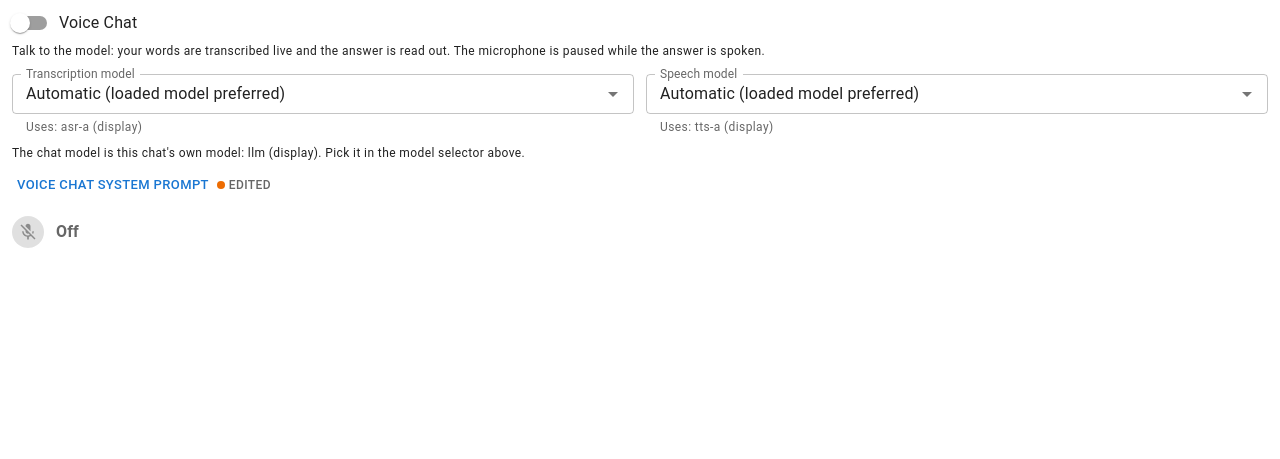
Test case: VoiceChatControl system prompt field › collapsed section › expands on a click, and collapses again on the next
The width and height of the screenshot is (1280, 459).
Click the button "Voice Chat system prompt Edited" at (144, 185), box [12, 170, 276, 200]
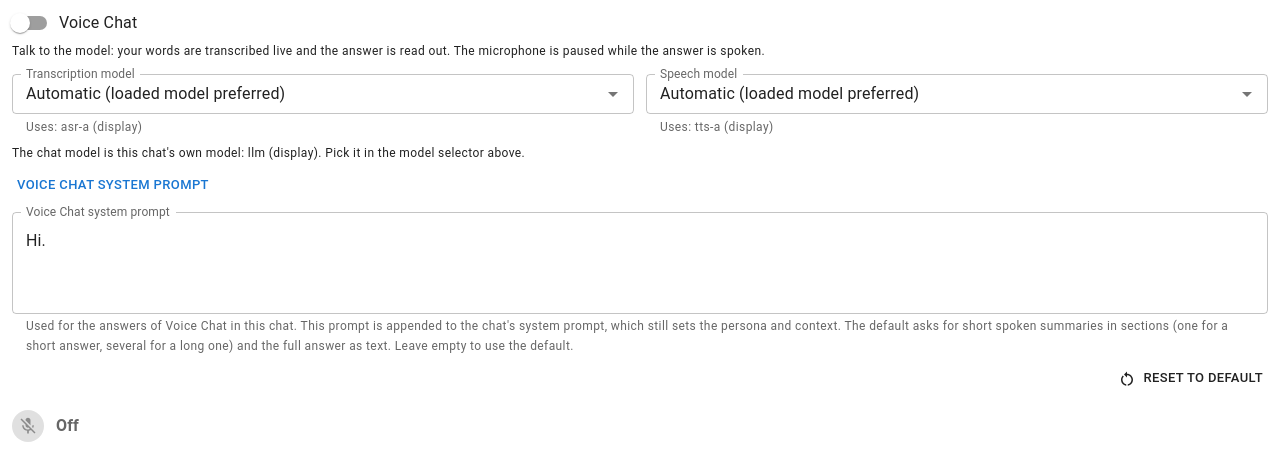
Now the text box labelled "Voice Chat system prompt" holds "Hi.", box [26, 229, 1254, 298]
Now the button "Reset to default" is shown, box [1114, 363, 1268, 394]
Click the button "Voice Chat system prompt" at (113, 185), box [12, 170, 214, 200]
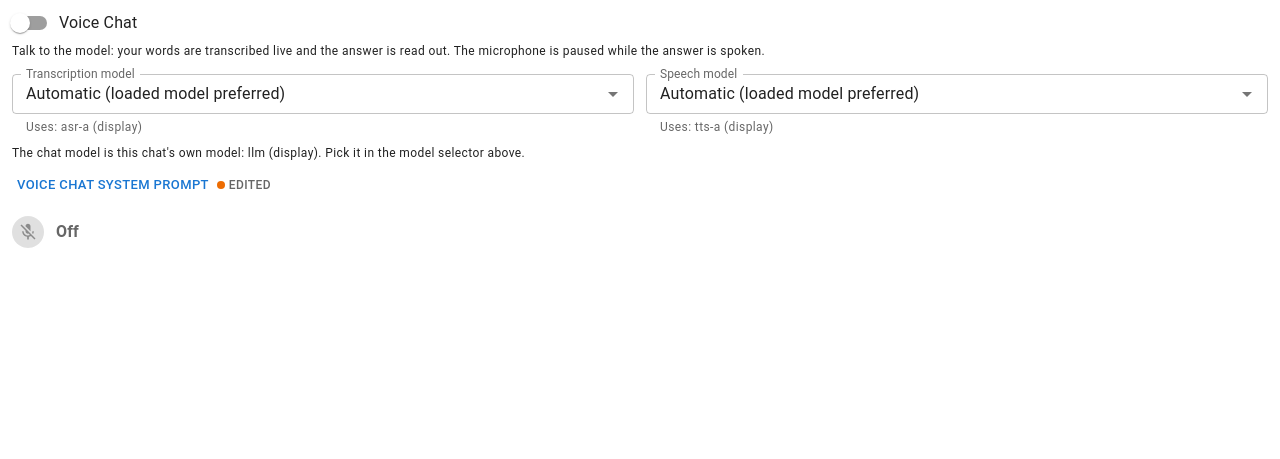
Now the button "Voice Chat system prompt Edited" is collapsed, box [12, 170, 276, 200]
